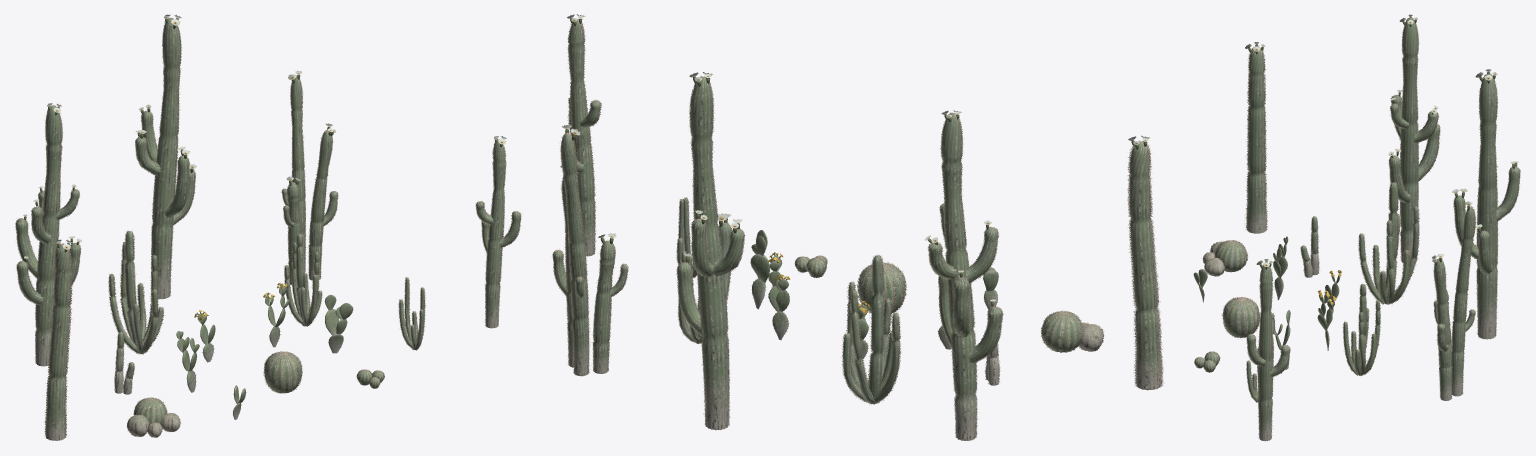
3 renders of one model, left to right at view 1: azimuth 30°, elevation 25°; view 2: azimuth 150°, elevation 25°; view 3: azimuth 270°, elevation 25°, orthographic. The views are drawn at different scales.
Visible parts, largest first — view 1: cactus_0, spines 01_6, cactus blend_1, prickly pear_4, prickly pear blend_3, saguaro flower_7; view 2: cactus_0, spines 01_6, cactus blend_1, prickly pear_4, prickly pear blend_3, saguaro flower_7; view 3: cactus_0, spines 01_6, cactus blend_1, prickly pear_4, saguaro flower_7, saguaro stem_2.
Boxes of the visible parts, <box> form: cactus_0: <box>16,18,520,423</box>; spines 01_6: <box>15,18,521,440</box>; cactus blend_1: <box>35,242,498,440</box>; prickly pear_4: <box>176,286,353,403</box>; prickly pear blend_3: <box>186,326,343,419</box>; saguaro flower_7: <box>23,14,506,258</box>; cactus_0: <box>553,20,1159,404</box>; spines 01_6: <box>552,19,1164,439</box>; cactus blend_1: <box>568,217,1161,440</box>; prickly pear_4: <box>750,230,998,340</box>; prickly pear blend_3: <box>752,278,997,358</box>; saguaro flower_7: <box>560,14,1149,301</box>; cactus_0: <box>1194,18,1519,413</box>; spines 01_6: <box>1194,17,1520,440</box>; cactus blend_1: <box>1203,201,1496,441</box>; prickly pear_4: <box>1193,236,1340,349</box>; saguaro flower_7: <box>1245,14,1518,266</box>; saguaro stem_2: <box>1248,16,1517,269</box>.
Bounding box in the file's own units: 7.03 × 3.98 × 4.34.
Materials: 10 (10 with a texture image).
